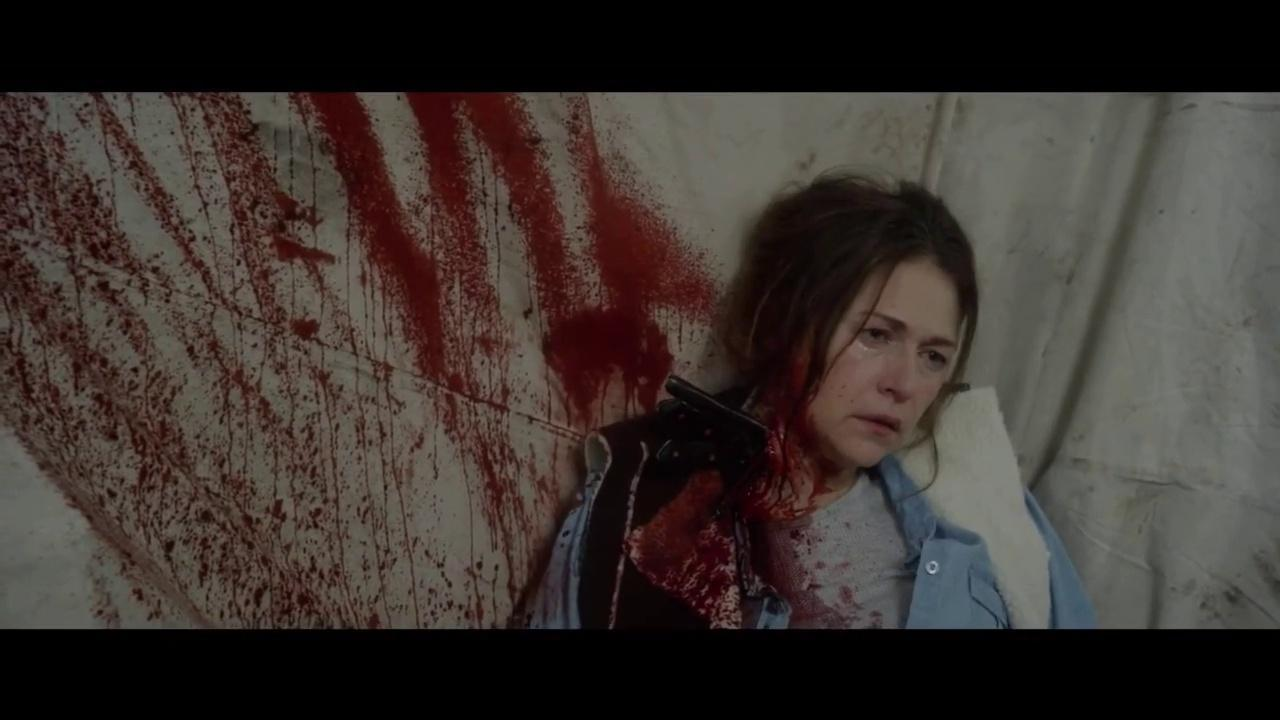Fire: (0, 92, 919, 631)
